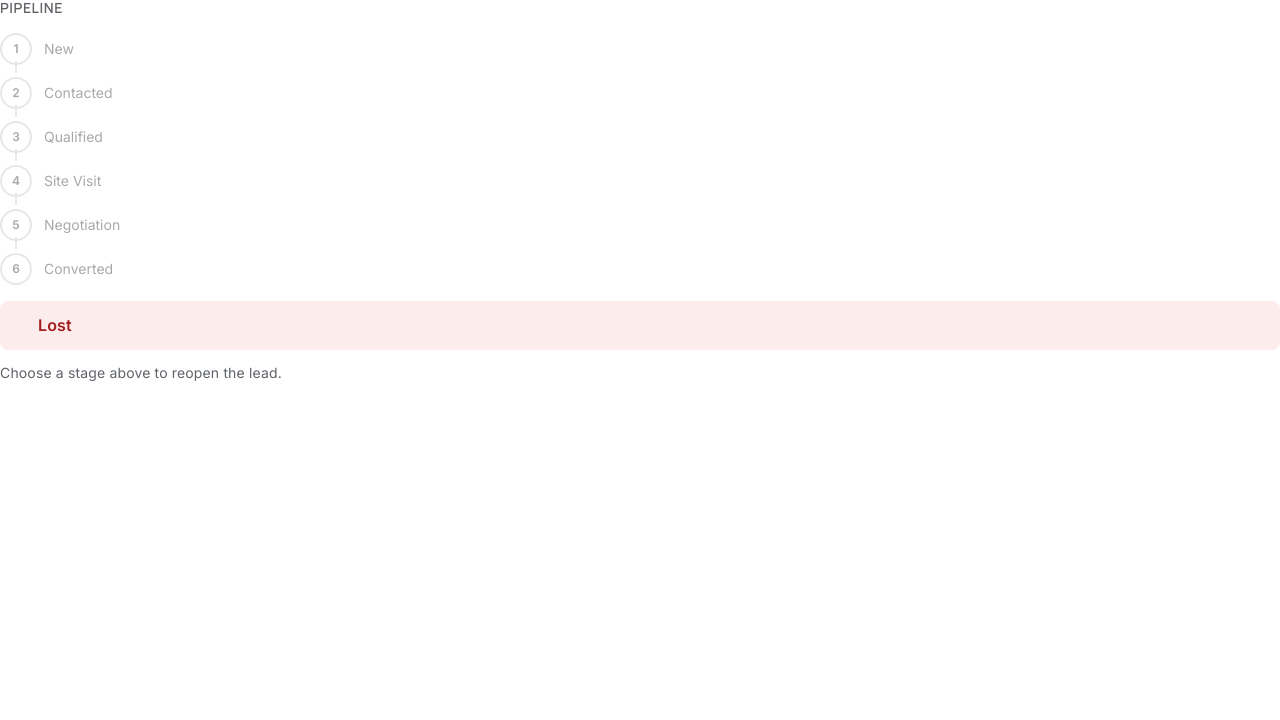
Test: LeadPipeline › asks before reopening a lost lead
Click the button with aria-label "Move to Contacted" at (16, 93), box [0, 73, 1279, 113]
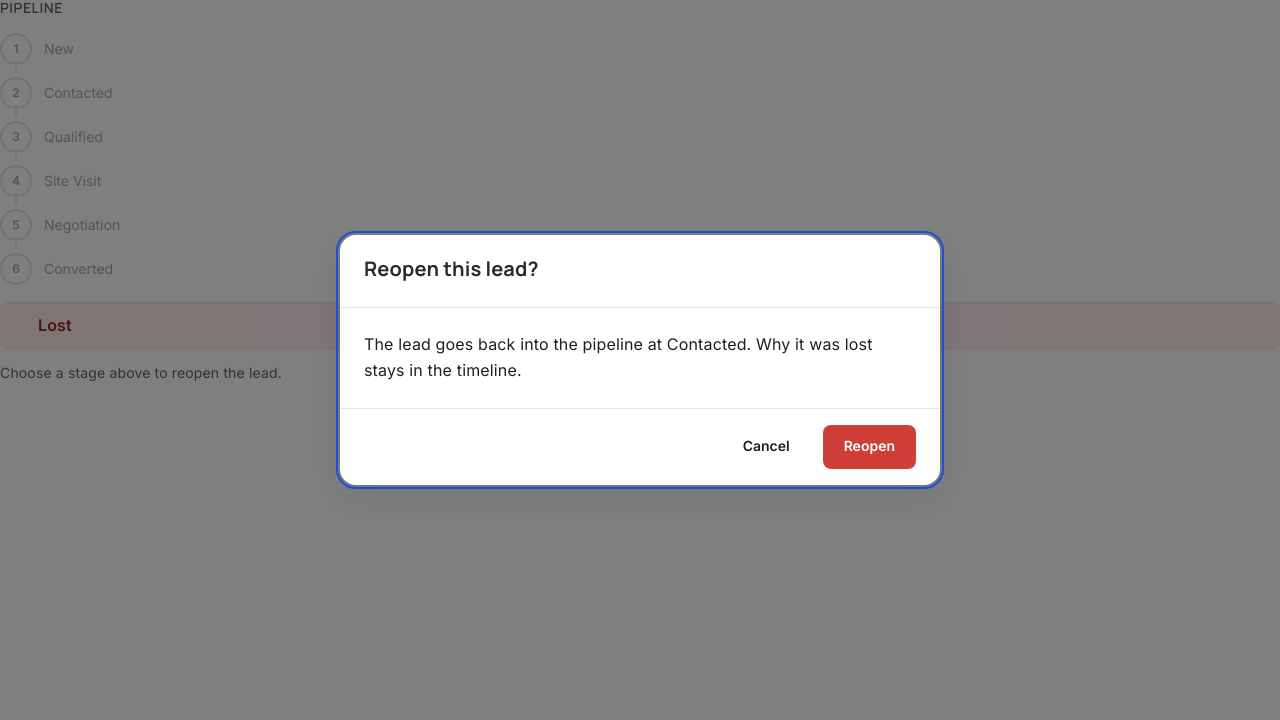
Expected: the dialog is shown, [340, 235, 940, 485]
